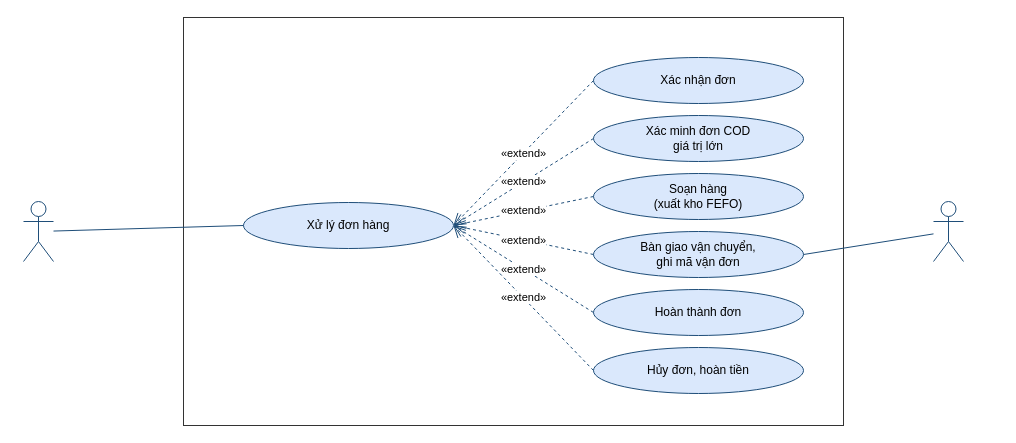
Image size: 1016x443. Some labels were removed from this diagram. Each missing label, with the centre of its shape:
"Dược sĩ" belongs at [38,231].
"«bên ngoài» Đơn vị vận chuyển" belongs at [948,231].
